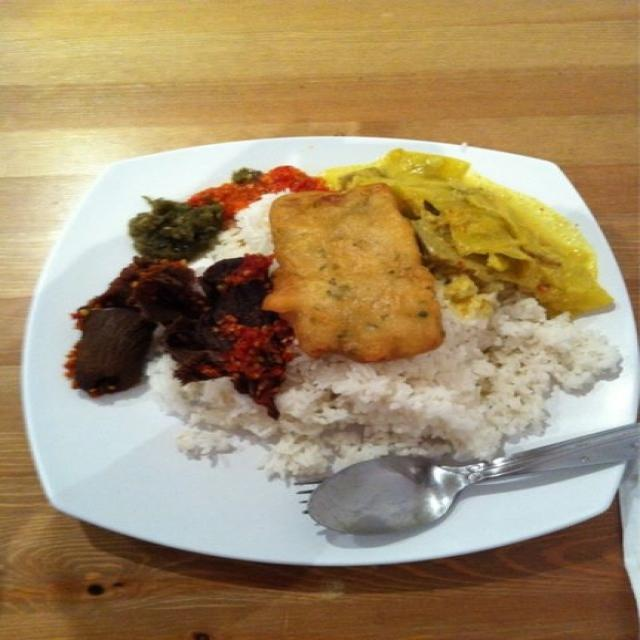米饭主食: (52, 146, 625, 552)
